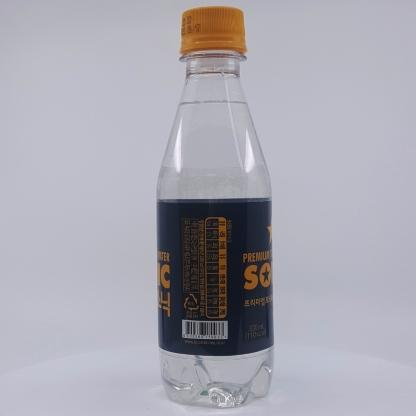----------------300ML: (156, 6, 275, 409)
